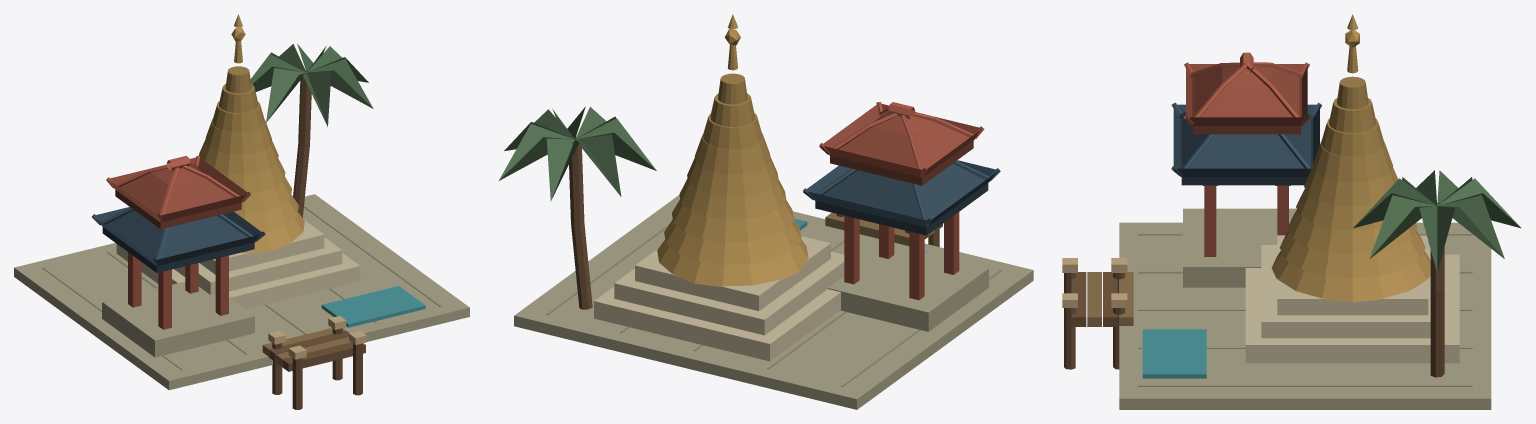
The picture shows the model from 3 angles, left to right: view 1: azimuth 30°, elevation 25°; view 2: azimuth 150°, elevation 25°; view 3: azimuth 270°, elevation 25°; orthographic projection. The views are drawn at different scales.
Visible parts, largest first — view 1: S32_大光 · 金塔水院; view 2: S32_大光 · 金塔水院; view 3: S32_大光 · 金塔水院.
Boxes of the visible parts, box(x1,y1,x2,y2) form: S32_大光 · 金塔水院: box(14, 14, 469, 409); S32_大光 · 金塔水院: box(499, 14, 1033, 409); S32_大光 · 金塔水院: box(1062, 14, 1520, 409).
Size of the model in its own units: 4.09 by 3.45 by 4.08.
